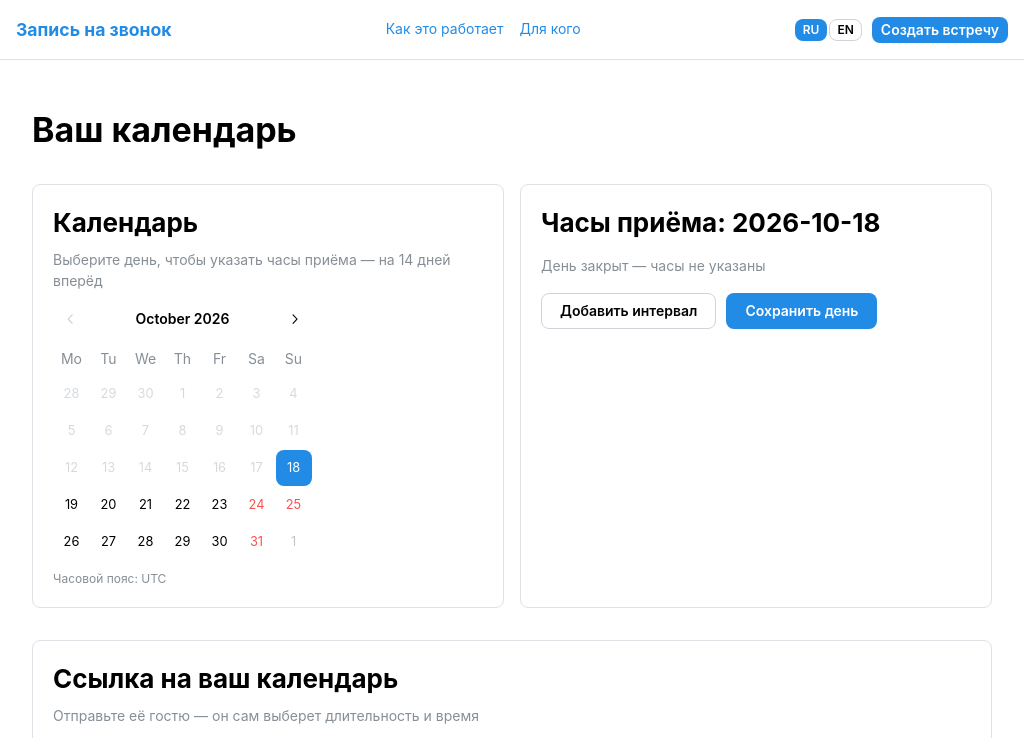
Test: переключатель языка на каждой странице › /owner/owner@example.com: RU/EN переключают язык страницы
Click the button "EN".
click(846, 30)  # box [829, 18, 862, 40]
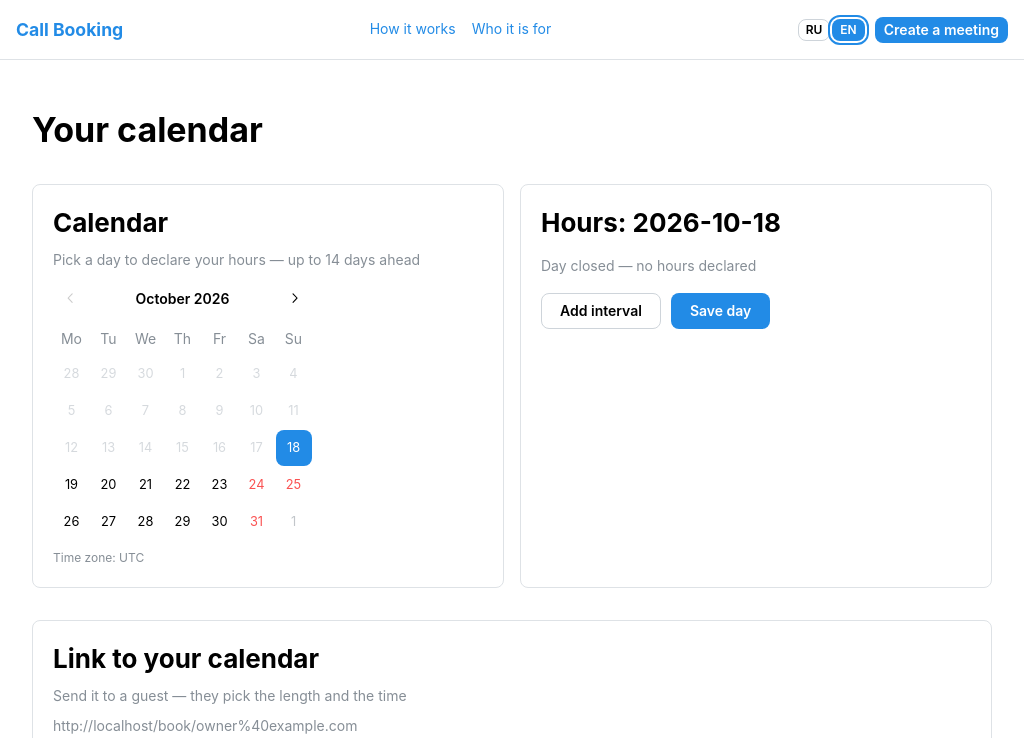
Expected: the heading "Your calendar" is shown, [32, 109, 263, 150]
